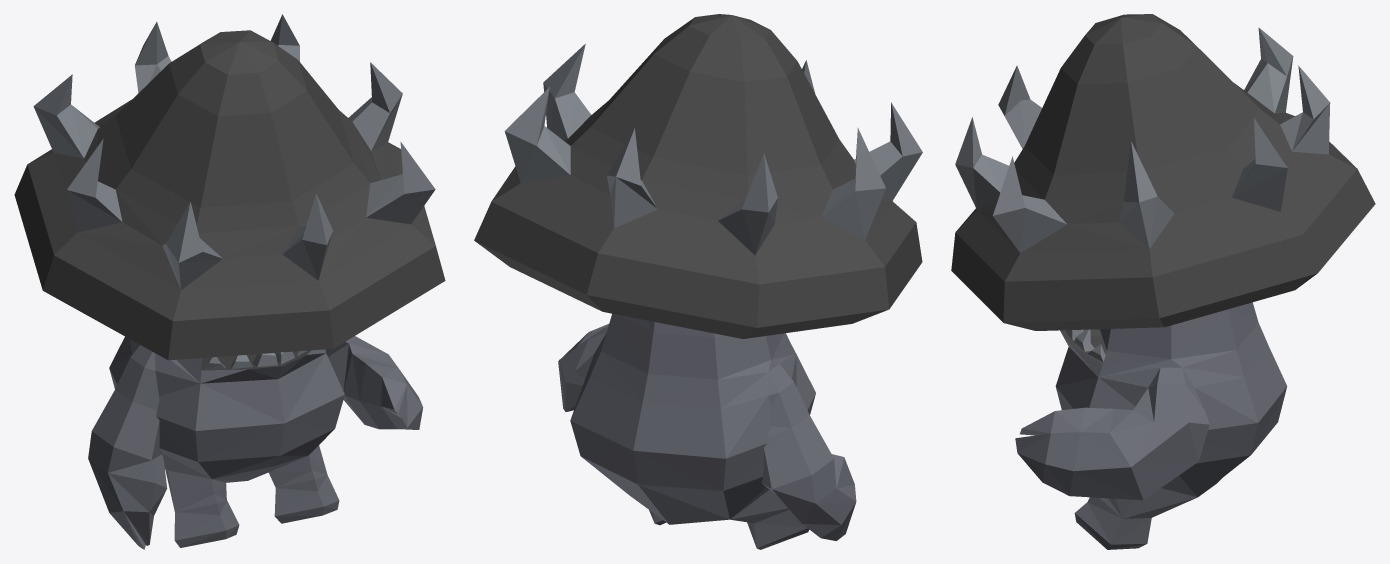
The model's file is Evil Mushroom_ACC.FBX.
3 views of the same model, side by side, from view 1: azimuth 30°, elevation 25°; view 2: azimuth 150°, elevation 25°; view 3: azimuth 270°, elevation 25° (orthographic). The views are drawn at different scales.
Visible parts, largest first — view 1: Evil Mushroom_ACC; view 2: Evil Mushroom_ACC; view 3: Evil Mushroom_ACC.
Part boxes in pixels (x1,y1,x2,y2): Evil Mushroom_ACC: (14,14,445,549); Evil Mushroom_ACC: (474,14,922,549); Evil Mushroom_ACC: (951,14,1375,549).
Bounding box in the file's own units: 94.75 × 122 × 93.41.
